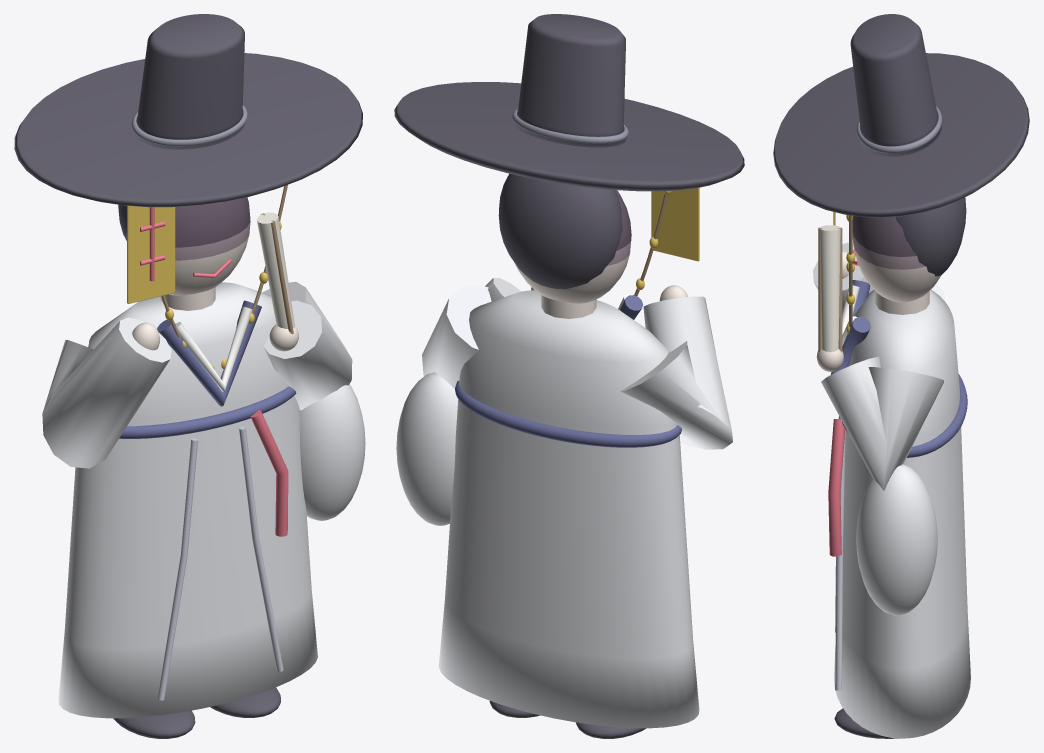
Rendered from conch_jeonwoochi_closed_seal_0_0.glb.
3 renders of one model, left to right at view 1: azimuth 30°, elevation 25°; view 2: azimuth 150°, elevation 25°; view 3: azimuth 270°, elevation 25°, orthographic.
Size of the model in its own units: 27.8 by 55.23 by 18.85.
